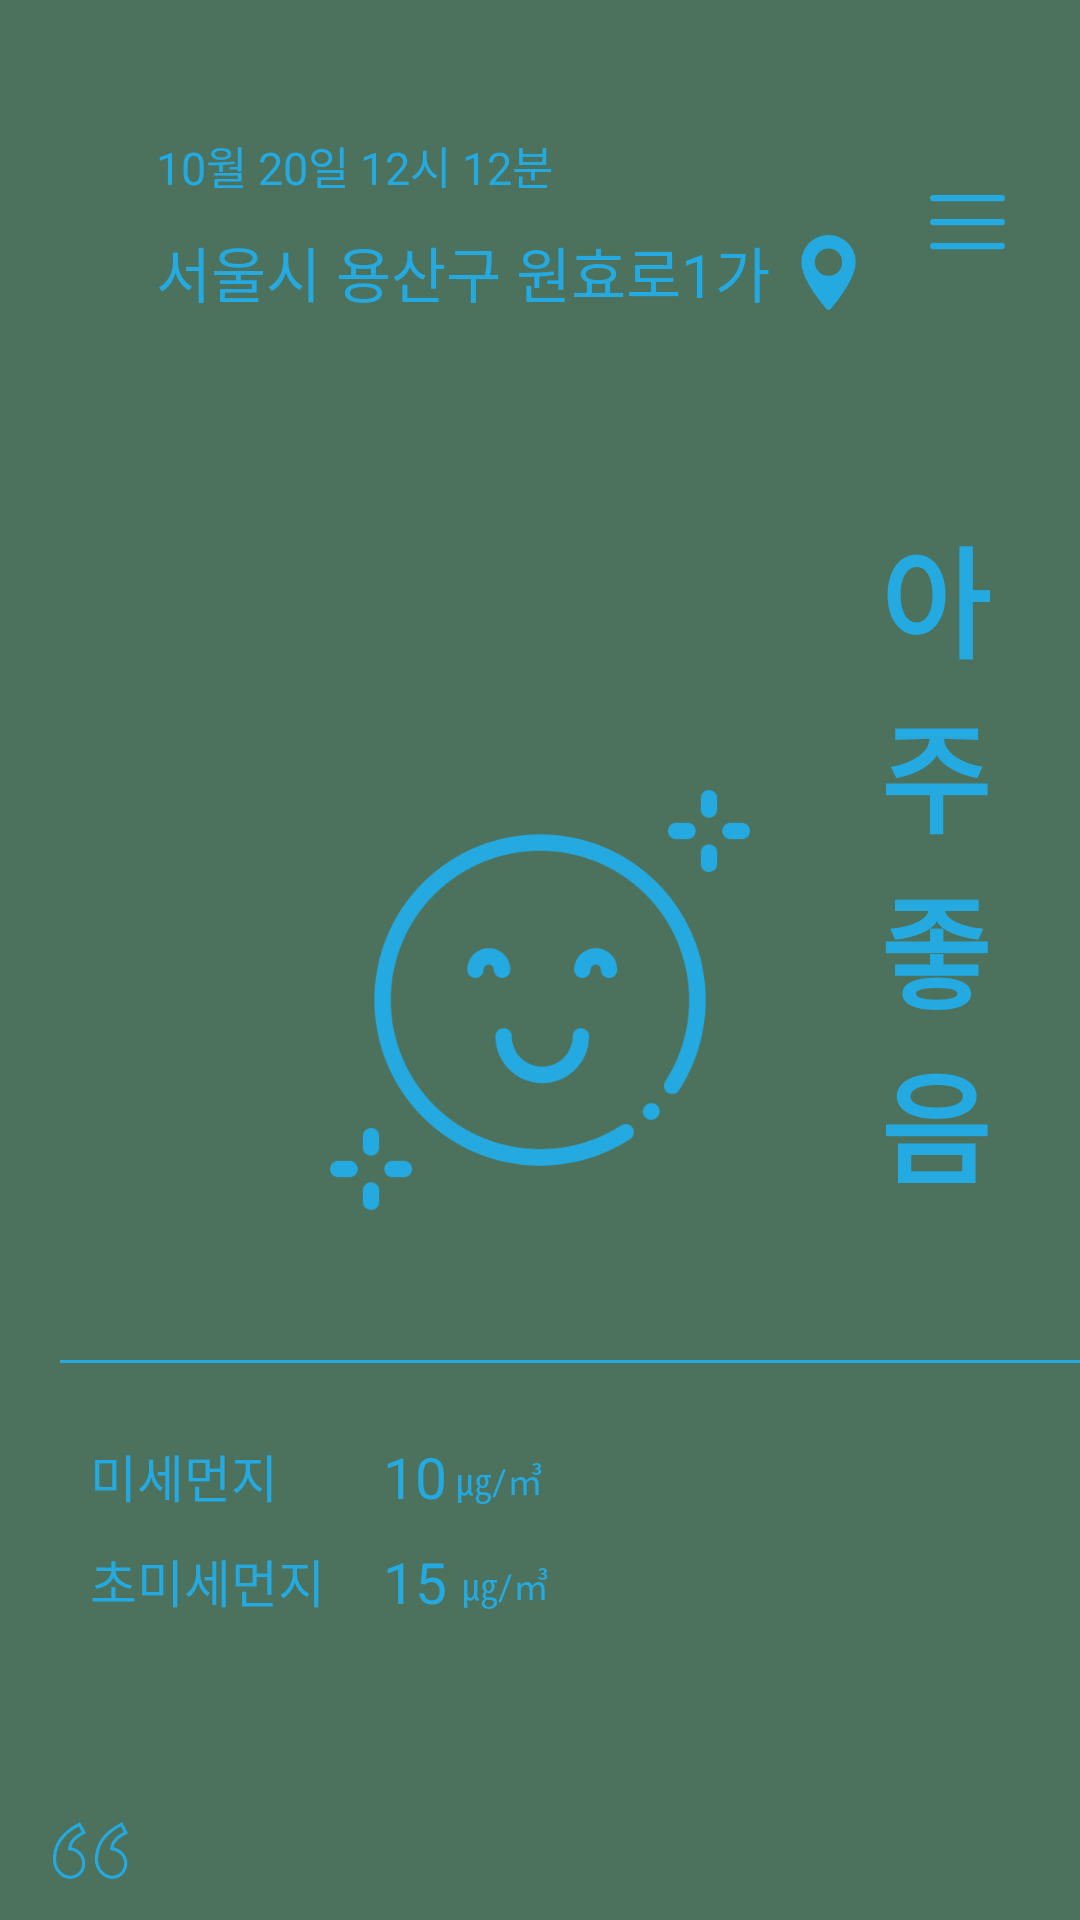

Locate icon controls on the screen. Image size 1080px x 1920px, boxes as [x1,y1,x2,y2].
location: [801,235,856,310]
menu: [930,195,1005,250]
quotation: [53,1822,128,1879]
